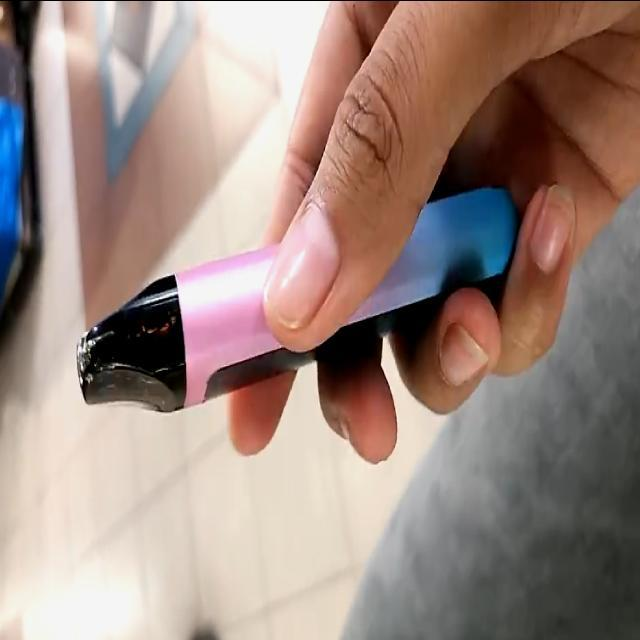Hazard: (72, 177, 514, 410)
